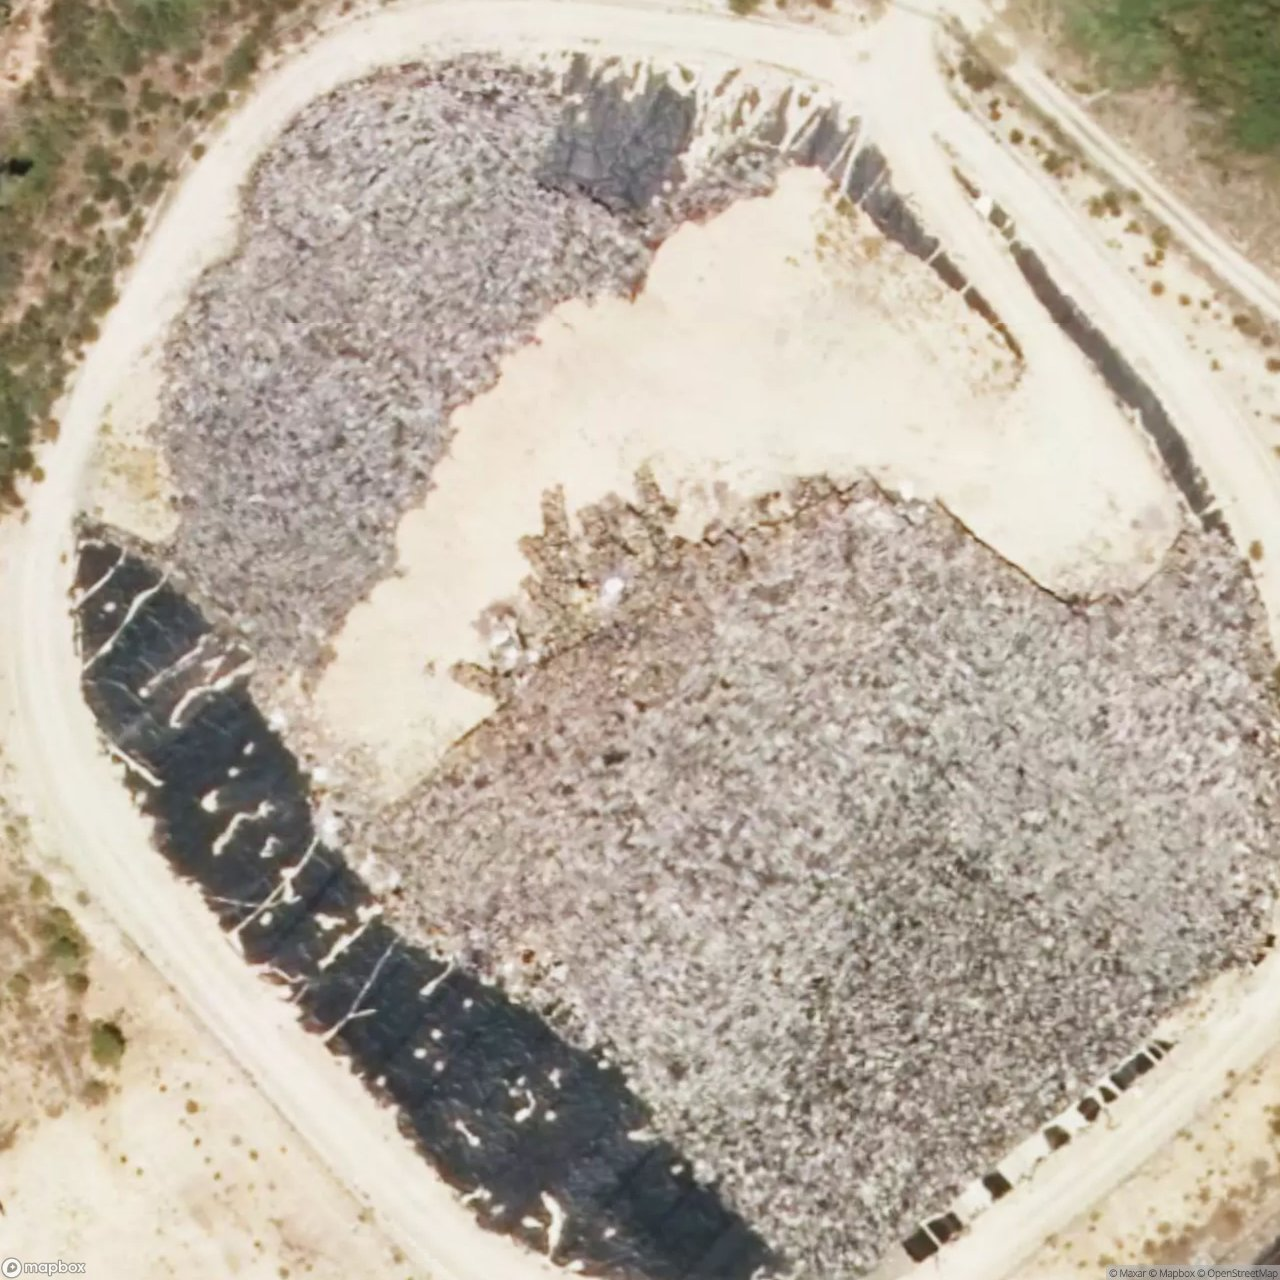dump_site: (359, 438, 1280, 1280), (12, 16, 790, 699)
